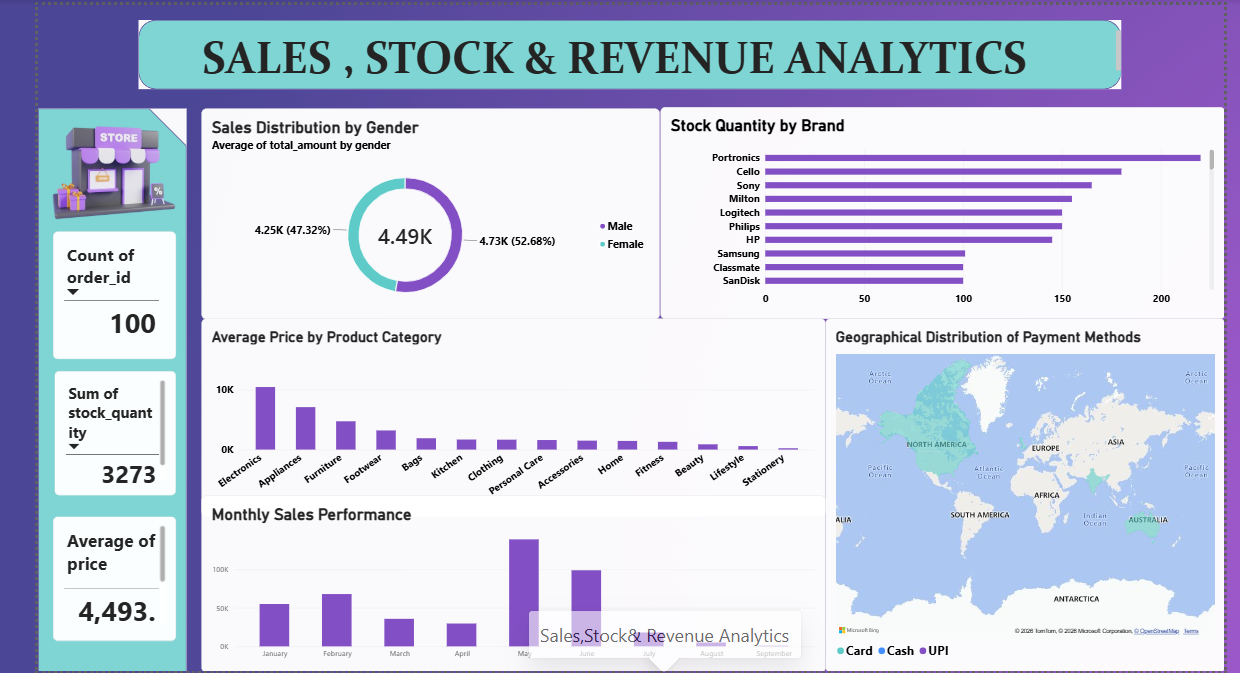

This screenshot's page, from the dashboard's own definition file:
{"tool":"powerbi","page":{"name":"Sales,Stock& Revenue Analytics ","canvas":[1920,1080],"ordinal":1},"visuals":[{"type":"shape","box":[0,167.6,240.5,913.2],"z":0},{"type":"donutChart","title":"Sales Distribution by Gender","fields":{"Category":["retail_store customers.gender"],"Y":["Avg(retail_store orders.total_amount)"]},"box":[264.8,167,742,341.2],"z":1000},{"type":"clusteredBarChart","title":"Stock Quantity by Brand","fields":{"Category":["retail_store products.brand"],"Y":["Sum(retail_store products.stock_quantity)"]},"box":[1006.9,164.6,913.8,343.6],"z":2000},{"type":"columnChart","title":"Average Price by Product Category","fields":{"Category":["retail_store products.category"],"Y":["Avg(retail_store products.price)"]},"box":[264.7,507.6,1010.4,320.6],"z":3000},{"type":"clusteredColumnChart","title":"Monthly Sales Performance","fields":{"Category":["retail_store products.manufacture_date.Variation.Date Hierarchy.Month"],"Y":["Sum(retail_store orders.total_amount)"]},"box":[264.7,794.2,1010.4,286.6],"z":4000},{"type":"filledMap","title":"Geographical Distribution of Payment Methods","fields":{"Category":["retail_store customers.country"],"Series":["retail_store orders.payment_method"]},"box":[1274.1,508.2,646.6,572.6],"z":5000},{"type":"shape","box":[162.2,23.9,1591.4,112.1],"z":6000},{"type":"tableEx","fields":{"Values":["Sum(retail_store products.stock_quantity)"]},"box":[26.7,592.6,196.7,201.6],"z":7000},{"type":"tableEx","fields":{"Values":["Avg(retail_store products.price)"]},"box":[24.3,828.2,199.2,201.6],"z":8000},{"type":"tableEx","fields":{"Values":["Count(retail_store orders.order_id)"]},"box":[24.3,366.8,199.2,206.5],"z":9000},{"type":"image","box":[0,116.6,240.5,293.9],"z":10000},{"type":"textbox","box":[264.7,41.3,1488.9,75.3],"z":11000}]}

Visuals, with their boxes on the page's 1920x1080 design canvas (x1, y1, x2, y2). These are canvas units, not pixel positions in the 1240x673 screenshot, which may show the page scaled, cropped or inside an application window:
shape: bbox=(0, 168, 240, 1081)
"Sales Distribution by Gender" donutChart: bbox=(265, 167, 1007, 508)
"Stock Quantity by Brand" clusteredBarChart: bbox=(1007, 165, 1921, 508)
"Average Price by Product Category" columnChart: bbox=(265, 508, 1275, 828)
"Monthly Sales Performance" clusteredColumnChart: bbox=(265, 794, 1275, 1081)
"Geographical Distribution of Payment Methods" filledMap: bbox=(1274, 508, 1921, 1081)
shape: bbox=(162, 24, 1754, 136)
tableEx - Sum(retail_store products.stock_quantity): bbox=(27, 593, 223, 794)
tableEx - Avg(retail_store products.price): bbox=(24, 828, 224, 1030)
tableEx - Count(retail_store orders.order_id): bbox=(24, 367, 224, 573)
image: bbox=(0, 117, 240, 410)
textbox: bbox=(265, 41, 1754, 117)
